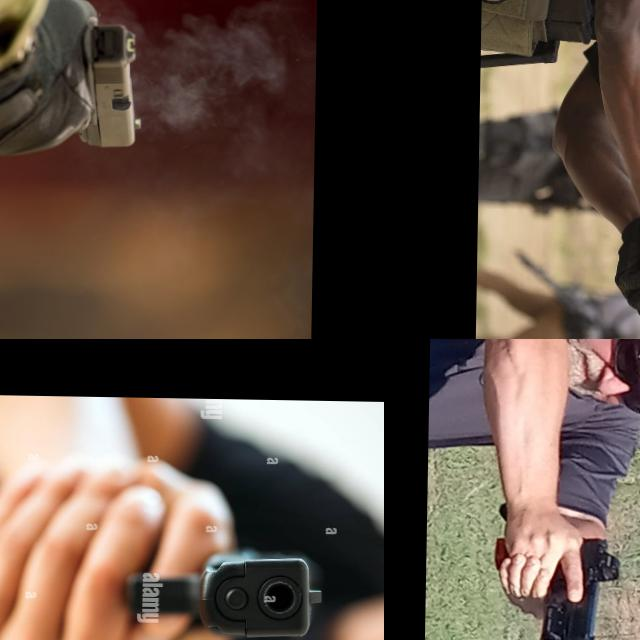handgun: (119, 545, 329, 640), (74, 20, 144, 150), (552, 536, 622, 640)
